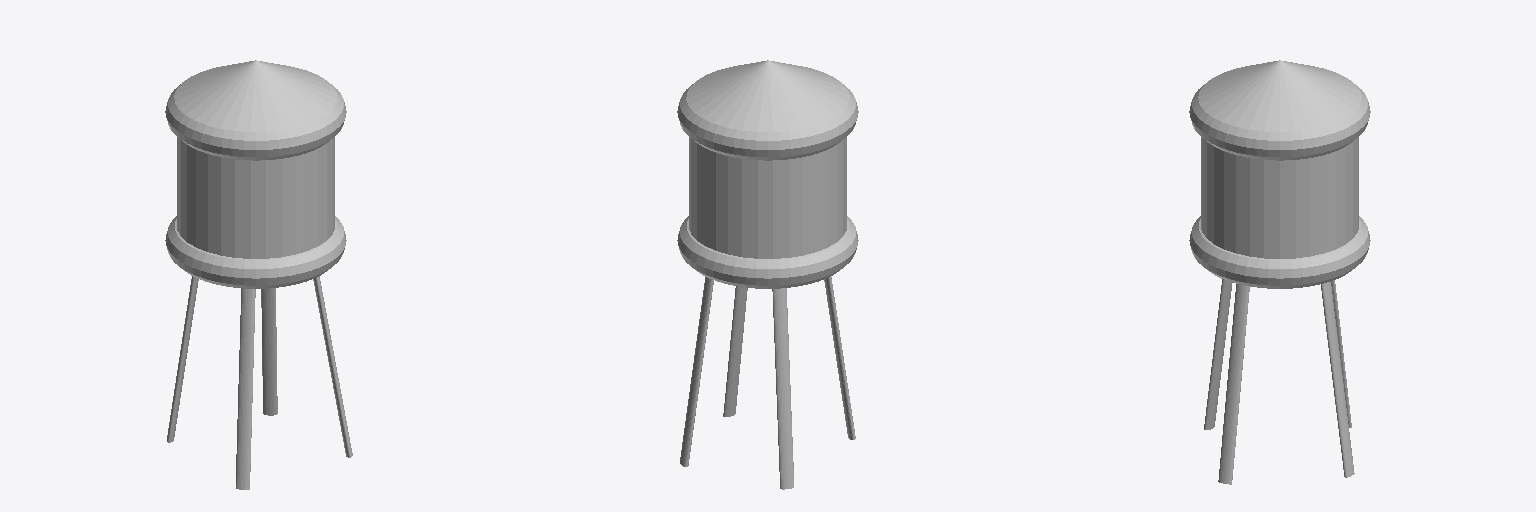
The model's file is water_tower.obj.
3 renders of one model, left to right at view 1: azimuth 30°, elevation 25°; view 2: azimuth 150°, elevation 25°; view 3: azimuth 270°, elevation 25°, orthographic.
Visible parts, largest first — view 1: Cylinder, Cone, Torus, Torus.001, Cylinder.001, Cylinder.002, Cylinder.003, Cylinder.004; view 2: Cylinder, Cone, Torus, Torus.001, Cylinder.004, Cylinder.002, Cylinder.003, Cylinder.001; view 3: Cylinder, Cone, Torus, Torus.001, Cylinder.003, Cylinder.002, Cylinder.001, Cylinder.004.
Part boxes in pixels (bbox=[...]): Cylinder: bbox=[177, 137, 334, 258]; Cone: bbox=[174, 60, 337, 131]; Torus: bbox=[165, 216, 346, 288]; Torus.001: bbox=[165, 84, 346, 160]; Cylinder.001: bbox=[236, 288, 255, 489]; Cylinder.002: bbox=[261, 288, 277, 415]; Cylinder.003: bbox=[313, 276, 352, 457]; Cylinder.004: bbox=[167, 276, 198, 442]; Cylinder: bbox=[689, 137, 846, 258]; Cone: bbox=[686, 60, 849, 131]; Torus: bbox=[677, 216, 858, 288]; Torus.001: bbox=[677, 84, 858, 160]; Cylinder.004: bbox=[772, 288, 793, 489]; Cylinder.002: bbox=[680, 277, 713, 466]; Cylinder.003: bbox=[723, 286, 747, 416]; Cylinder.001: bbox=[824, 277, 855, 439]; Cylinder: bbox=[1201, 137, 1358, 258]; Cone: bbox=[1198, 60, 1361, 131]; Torus: bbox=[1189, 216, 1370, 288]; Torus.001: bbox=[1189, 85, 1370, 160]; Cylinder.003: bbox=[1218, 284, 1249, 484]; Cylinder.002: bbox=[1321, 282, 1354, 477]; Cylinder.001: bbox=[1204, 279, 1232, 429]; Cylinder.004: bbox=[1331, 280, 1351, 427].
Size of the model in its own units: 6.13 by 14.61 by 6.13.